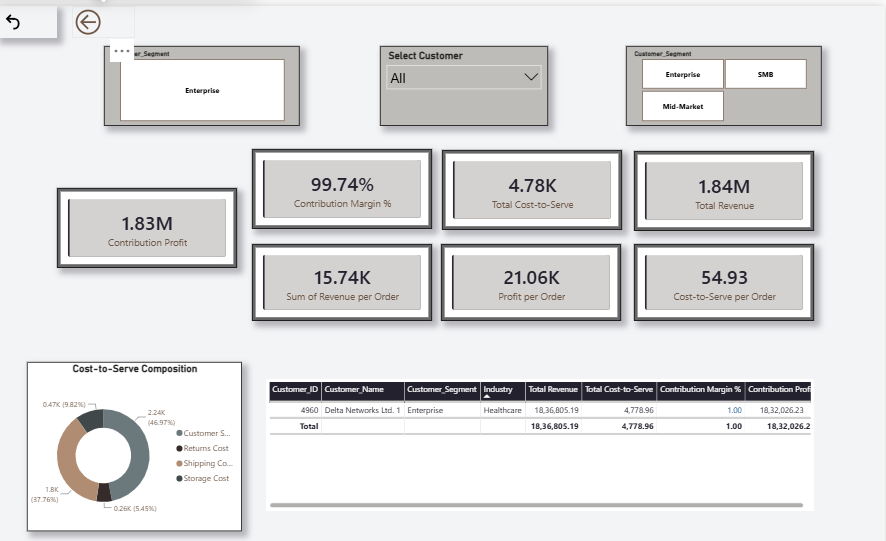

The page's visual inventory and layout, read from the dashboard file:
{"tool":"powerbi","page":{"name":"Customer Deep Dive","canvas":[1480,920],"ordinal":4},"visuals":[{"type":"slicer","fields":{"Values":["rpt vw_Customer_Profitability.Customer_ID"]},"box":[638,67.2,280,133.3],"z":0},{"type":"cardVisual","fields":{"Data":["rpt vw_Cost_to_Serve.Total Revenue"]},"box":[1061,241.8,300,133.3],"z":1000},{"type":"cardVisual","fields":{"Data":["rpt vw_Cost_to_Serve.Total Cost-to-Serve"]},"box":[742,240.1,300,133.3],"z":2000},{"type":"cardVisual","fields":{"Data":["rpt vw_Cost_to_Serve.Contribution Margin %"]},"box":[424.7,238.4,300,133.3],"z":3000},{"type":"cardVisual","fields":{"Data":["rpt vw_Cost_to_Serve.Contribution Profit"]},"box":[100.7,303.9,300,133.3],"z":4000},{"type":"donutChart","title":"Cost-to-Serve Composition","fields":{"Y":["rpt vw_Cost_to_Serve.Customer Service Cost","rpt vw_Cost_to_Serve.Returns Cost","rpt vw_Cost_to_Serve.Shipping Cost","rpt vw_Cost_to_Serve.Storage Cost"]},"box":[50.4,592.6,358.3,281.7],"z":5000},{"type":"cardVisual","fields":{"Data":["Measurs.Cost-to-Serve per Order"]},"box":[1061,396.2,300,128.3],"z":6000},{"type":"cardVisual","fields":{"Data":["Measurs.Profit per Order"]},"box":[740.4,396.2,300,128.3],"z":7000},{"type":"cardVisual","fields":{"Data":["Sum(Measurs.Revenue per Order)"]},"box":[424.7,396.2,300,128.3],"z":8000},{"type":"tableEx","fields":{"Values":["rpt vw_Cost_to_Serve.Customer_ID","rpt vw_Customer_Profitability.Customer_Name","rpt vw_Customer_Profitability.Customer_Segment","rpt vw_Customer_Profitability.Industry","rpt vw_Cost_to_Serve.Total Revenue","rpt vw_Cost_to_Serve.Total Cost-to-Serve","rpt vw_Cost_to_Serve.Contribution Margin %","rpt vw_Cost_to_Serve.Contribution Profit"]},"box":[448.3,621.7,913.3,220],"z":9000},{"type":"actionButton","box":[0,0,100,53.6],"z":10000},{"type":"slicer","fields":{"Values":["rpt vw_Customer_Pareto.Customer_Segment"]},"box":[1047.6,67.2,325.7,132.6],"z":11000},{"type":"slicer","fields":{"Values":["rpt vw_Customer_Profitability.Customer_Segment"]},"box":[178,67.2,325.7,132.6],"z":12000},{"type":"actionButton","box":[124.2,0,105.8,53.7],"z":13000}]}

Visuals, with their boxes in screenshot pixels (x1, y1, x2, y2):
slicer - rpt vw_Customer_Profitability.Customer_ID: box(378, 43, 546, 123)
cardVisual - rpt vw_Cost_to_Serve.Total Revenue: box(632, 147, 812, 227)
cardVisual - rpt vw_Cost_to_Serve.Total Cost-to-Serve: box(441, 146, 621, 226)
cardVisual - rpt vw_Cost_to_Serve.Contribution Margin %: box(250, 145, 430, 225)
cardVisual - rpt vw_Cost_to_Serve.Contribution Profit: box(56, 185, 236, 265)
"Cost-to-Serve Composition" donutChart: box(26, 358, 241, 527)
cardVisual - Measurs.Cost-to-Serve per Order: box(632, 240, 812, 317)
cardVisual - Measurs.Profit per Order: box(440, 240, 620, 317)
cardVisual - Sum(Measurs.Revenue per Order): box(250, 240, 430, 317)
tableEx - rpt vw_Cost_to_Serve.Customer_ID x rpt vw_Customer_Profitability.Customer_Name: box(264, 375, 812, 507)
actionButton: box(0, 2, 55, 34)
slicer - rpt vw_Customer_Pareto.Customer_Segment: box(624, 43, 819, 122)
slicer - rpt vw_Customer_Profitability.Customer_Segment: box(102, 43, 298, 122)
actionButton: box(70, 2, 133, 35)
